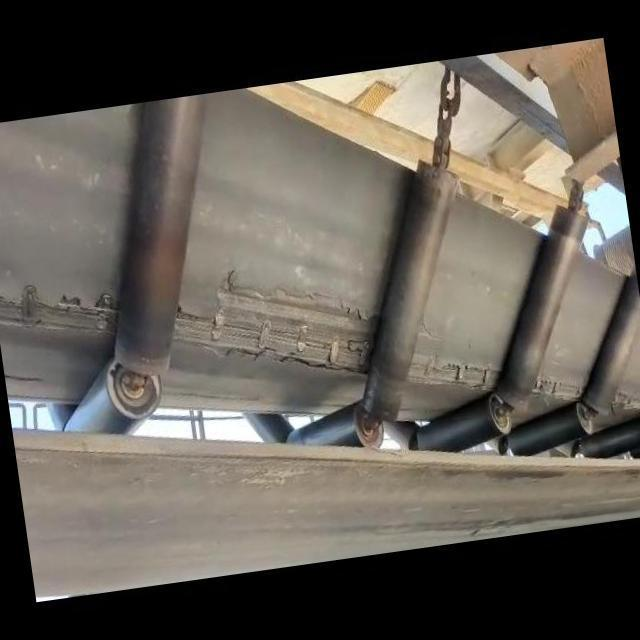Tear: (171, 262, 382, 372), (0, 275, 121, 340), (402, 347, 509, 395)
